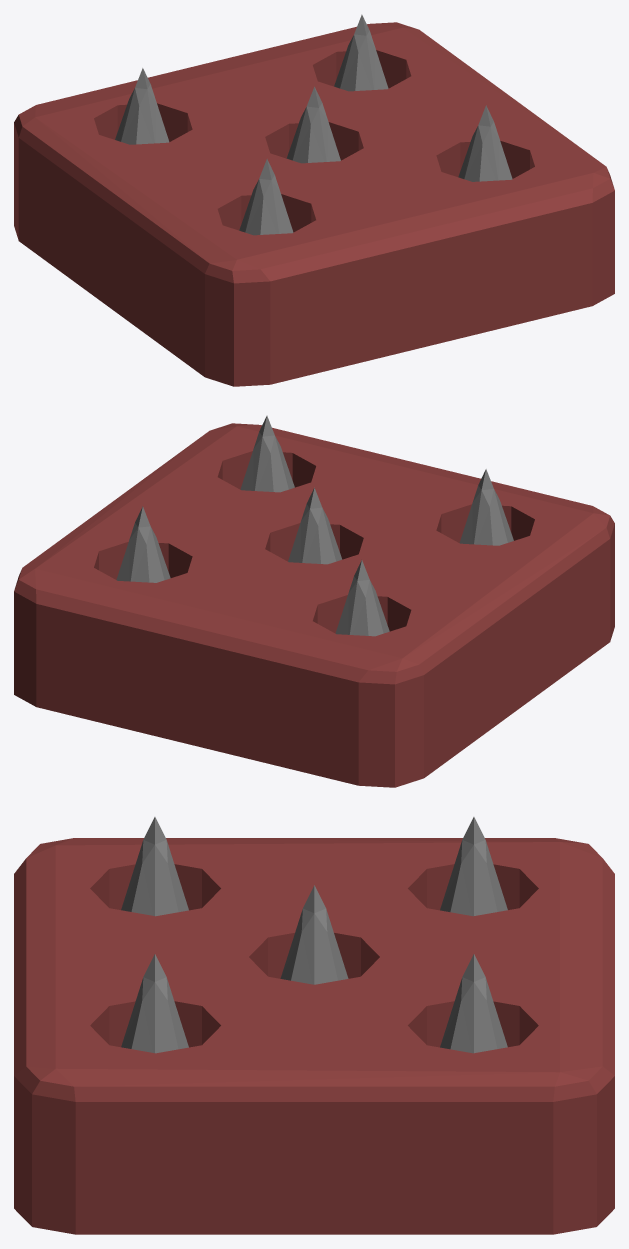
File: spikes-village-43.glb
The picture shows the model from 3 angles, top to bottom: view 1: azimuth 30°, elevation 25°; view 2: azimuth 150°, elevation 25°; view 3: azimuth 270°, elevation 25°; orthographic projection. The views are drawn at different scales.
Visible parts, largest first — view 1: piece; view 2: piece; view 3: piece.
Boxes of the visible parts, bbox=[...] form: piece: bbox=[14, 14, 614, 386]; piece: bbox=[14, 415, 614, 787]; piece: bbox=[14, 817, 614, 1234].
Bounding box in the file's own units: 2 × 0.8177 × 2.
